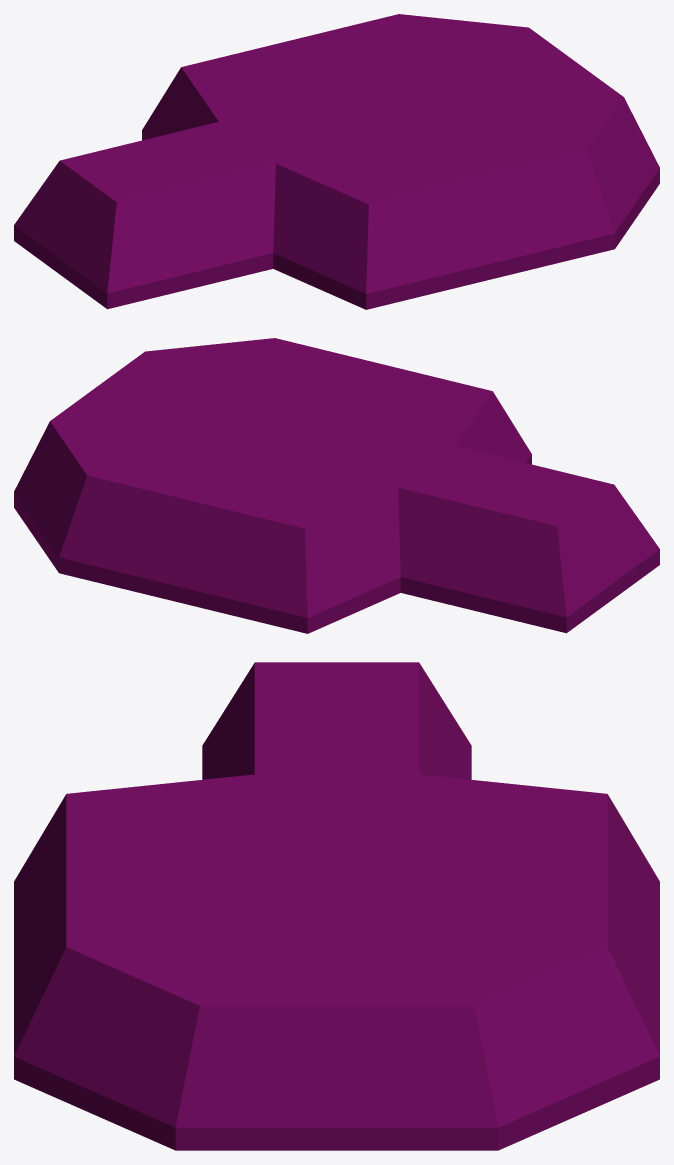
The model's file is enemy_mech_body.glb.
3 renders of one model, top to bottom at view 1: azimuth 30°, elevation 25°; view 2: azimuth 150°, elevation 25°; view 3: azimuth 270°, elevation 25°, orthographic. The views are drawn at different scales.
Visible parts, largest first — view 1: Cube; view 2: Cube; view 3: Cube.
Boxes of the visible parts, <box> form: Cube: <box>14,14,659,309</box>; Cube: <box>14,338,659,633</box>; Cube: <box>14,662,659,1150</box>.
Size of the model in its own units: 10.75 by 1.64 by 7.68.
